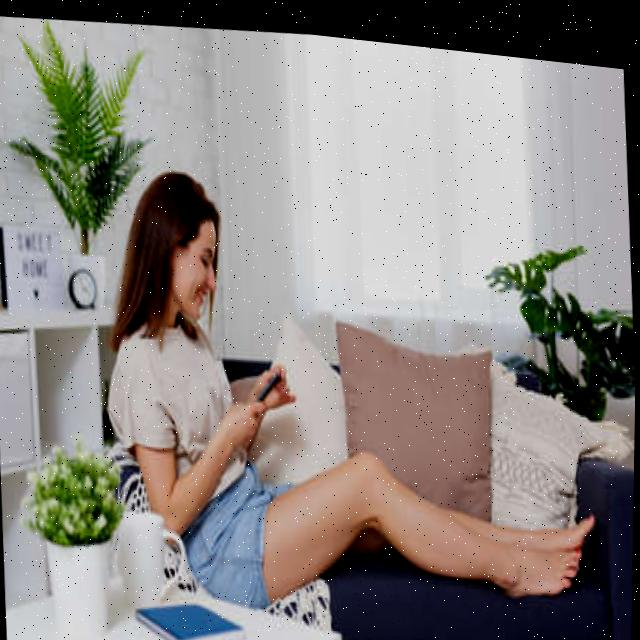smartphone-person: (93, 105, 322, 618)
